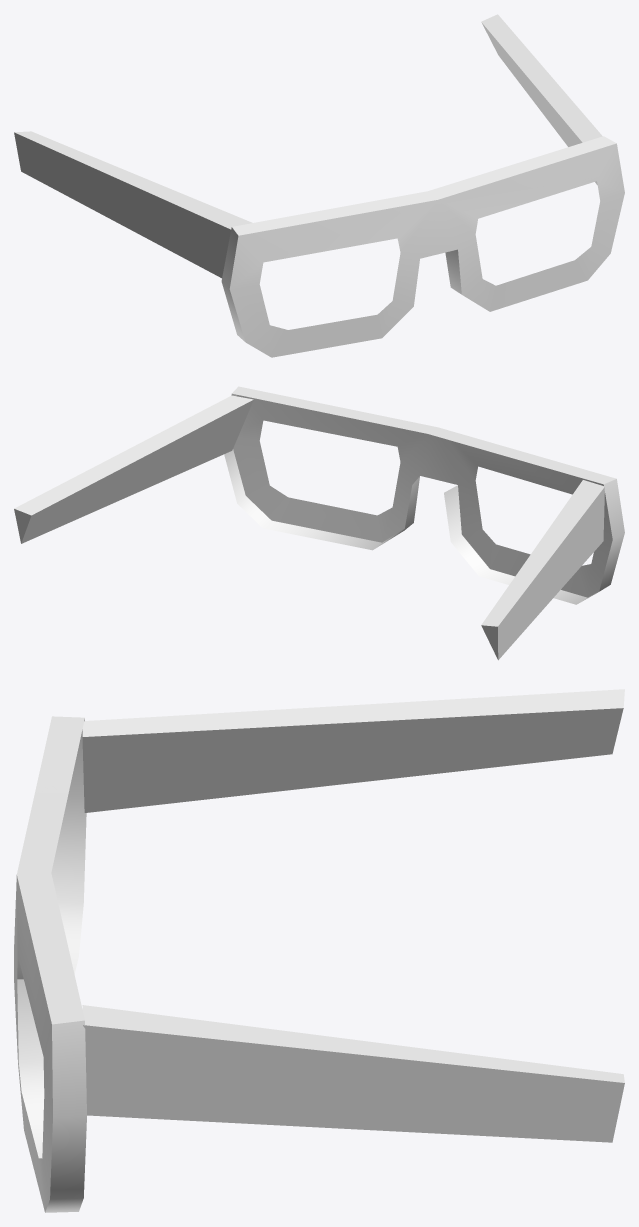
Rendered from Male_Glasses_01.fbx.
3 renders of one model, top to bottom at view 1: azimuth 30°, elevation 25°; view 2: azimuth 150°, elevation 25°; view 3: azimuth 270°, elevation 25°, orthographic. The views are drawn at different scales.
Parts seen in each view (by area): view 1: Male_Glasses_01; view 2: Male_Glasses_01; view 3: Male_Glasses_01.
Boxes of the visible parts, x1=… form: Male_Glasses_01: x1=14, y1=14, x2=624, y2=357; Male_Glasses_01: x1=14, y1=386, x2=624, y2=660; Male_Glasses_01: x1=14, y1=689, x2=624, y2=1212.
Bounding box in the file's own units: 56.11 × 14.43 × 36.78.
